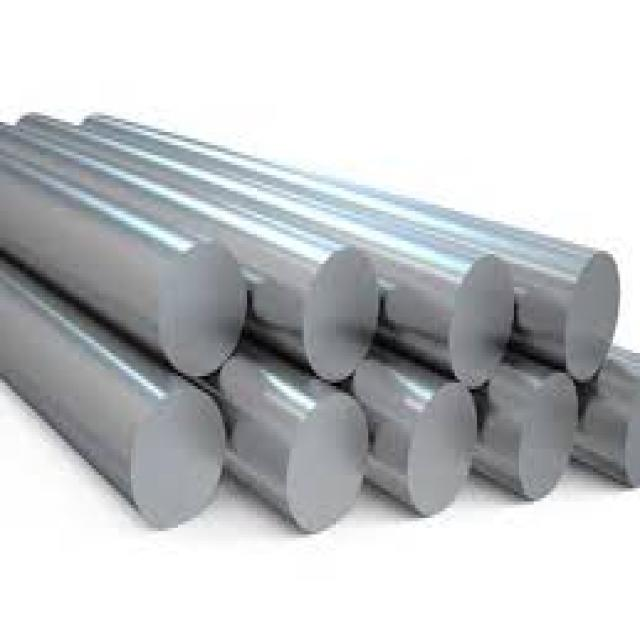Turning: (94, 107, 628, 383), (85, 117, 529, 376), (18, 112, 396, 392), (1, 110, 279, 390), (1, 260, 239, 538), (208, 353, 405, 528), (348, 348, 508, 515), (461, 355, 608, 496), (548, 357, 639, 498)
